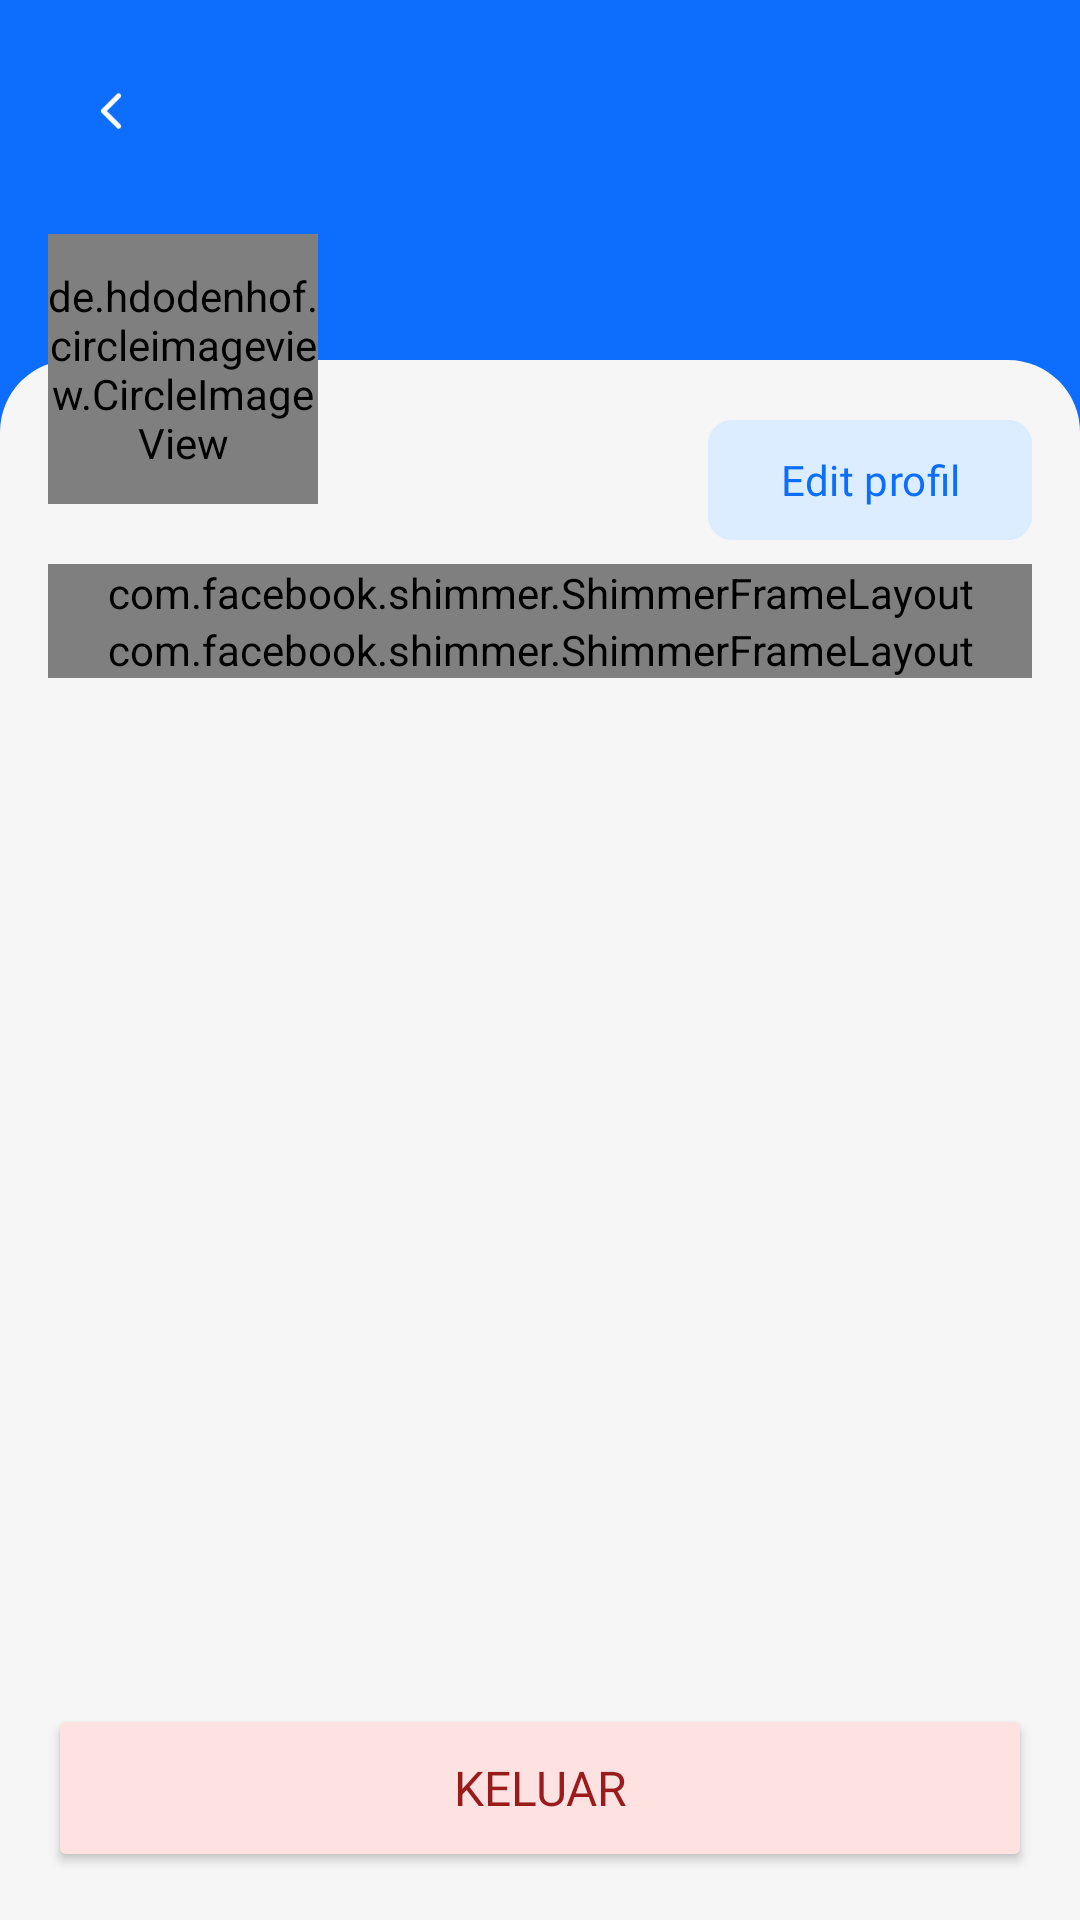

Where to tap for icons on this 1080x1920 app screen, as [x,y]:
back: [111,111]
